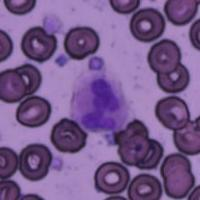N: (70, 69, 130, 134)
